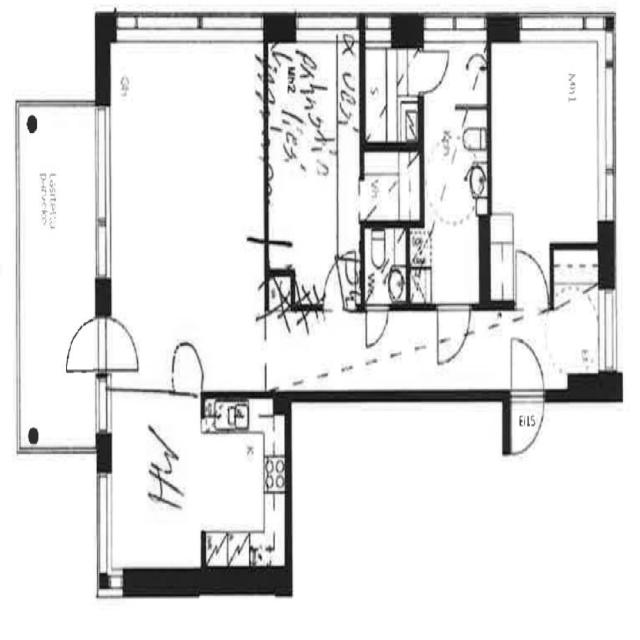door: (507, 334, 546, 456), (61, 312, 108, 377), (510, 240, 550, 316), (97, 313, 143, 379), (432, 298, 473, 371), (168, 335, 206, 395), (412, 39, 452, 95), (362, 300, 392, 351), (354, 176, 380, 221)
window: (87, 98, 117, 296), (594, 27, 621, 234), (112, 1, 200, 45), (513, 6, 604, 48), (93, 460, 116, 592), (291, 8, 357, 40), (423, 10, 491, 41), (598, 283, 620, 378), (361, 8, 397, 49), (94, 372, 112, 439), (99, 563, 129, 599)
zone: (105, 34, 266, 395), (97, 391, 288, 578), (489, 26, 611, 248), (262, 23, 355, 283), (419, 32, 488, 308), (364, 41, 421, 144), (358, 144, 423, 222), (359, 222, 412, 305)
